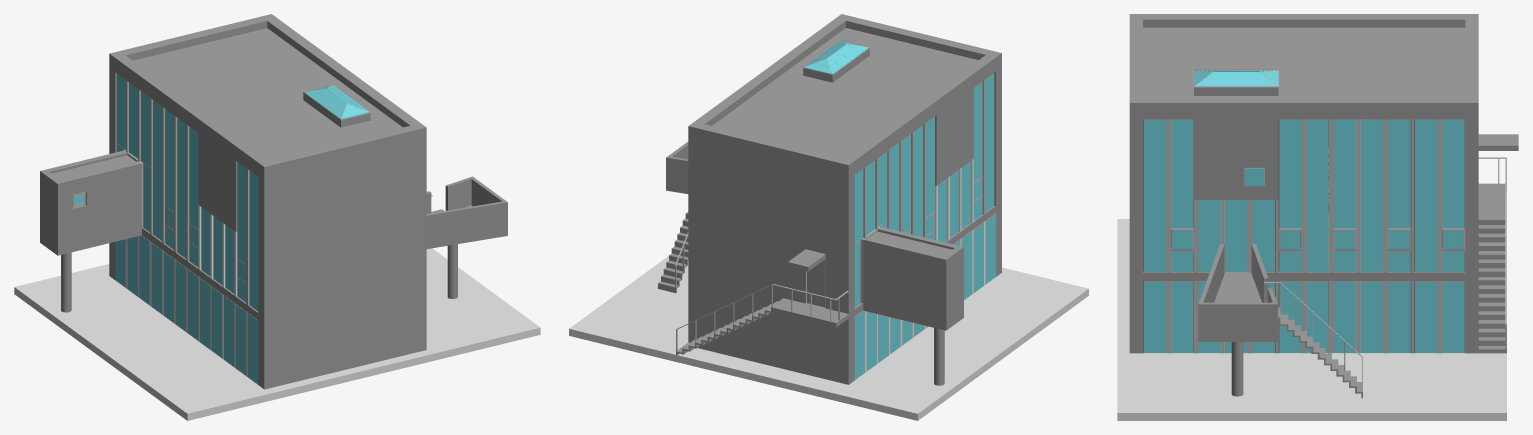
File: greenhouse.glb
3 views of the same model, side by side, from view 1: azimuth 30°, elevation 25°; view 2: azimuth 150°, elevation 25°; view 3: azimuth 270°, elevation 25° (orthographic). The views are drawn at different scales.
Parts seen in each view (by area): view 1: left_wall, roof, back_wall, base, back_extension, front_stairs, first_floor, right_wall; view 2: right_wall, roof, base, back_wall, back_extension, side_stairs, front_stairs, left_wall, first_floor; view 3: front_walls, roof, base, front_stairs, side_stairs, right_wall, left_wall, first_floor.
Boxes of the visible parts, left/top/right/bottom form: left_wall: left=258, top=142, right=426, bottom=389; roof: left=109, top=14, right=426, bottom=181; back_wall: left=115, top=74, right=258, bottom=384; base: left=14, top=248, right=540, bottom=420; back_extension: left=40, top=150, right=141, bottom=312; front_stairs: left=426, top=176, right=507, bottom=298; first_floor: left=142, top=227, right=258, bottom=319; right_wall: left=109, top=68, right=116, bottom=279; right_wall: left=688, top=140, right=854, bottom=384; roof: left=688, top=14, right=1001, bottom=179; base: left=569, top=256, right=1088, bottom=420; back_wall: left=854, top=73, right=995, bottom=379; back_extension: left=863, top=227, right=963, bottom=385; side_stairs: left=676, top=249, right=848, bottom=355; front_stairs: left=658, top=141, right=688, bottom=293; left_wall: left=994, top=67, right=1001, bottom=276; first_floor: left=854, top=206, right=995, bottom=316; front_walls: left=1143, top=119, right=1465, bottom=353; roof: left=1129, top=14, right=1478, bottom=119; base: left=1117, top=219, right=1506, bottom=420; front_stairs: left=1198, top=244, right=1362, bottom=398; side_stairs: left=1478, top=134, right=1518, bottom=353; right_wall: left=1465, top=119, right=1478, bottom=353; left_wall: left=1129, top=119, right=1142, bottom=353; first_floor: left=1143, top=185, right=1465, bottom=280.
Bounding box in the file's own units: 1.57 × 0.991 × 1.35.
